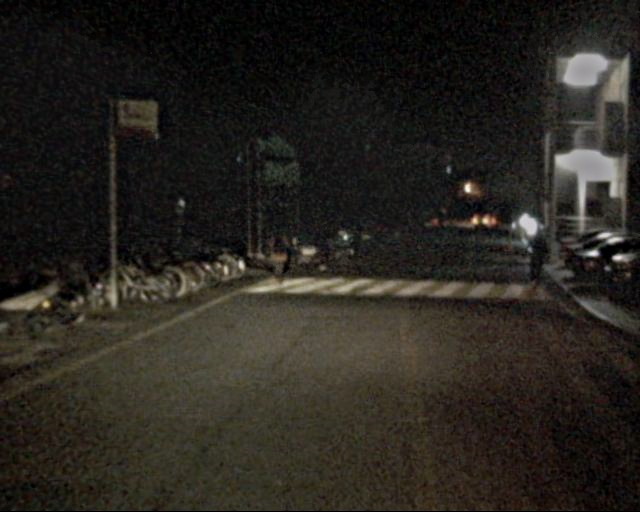person: (524, 227, 550, 291), (262, 222, 288, 285), (309, 220, 329, 268)
